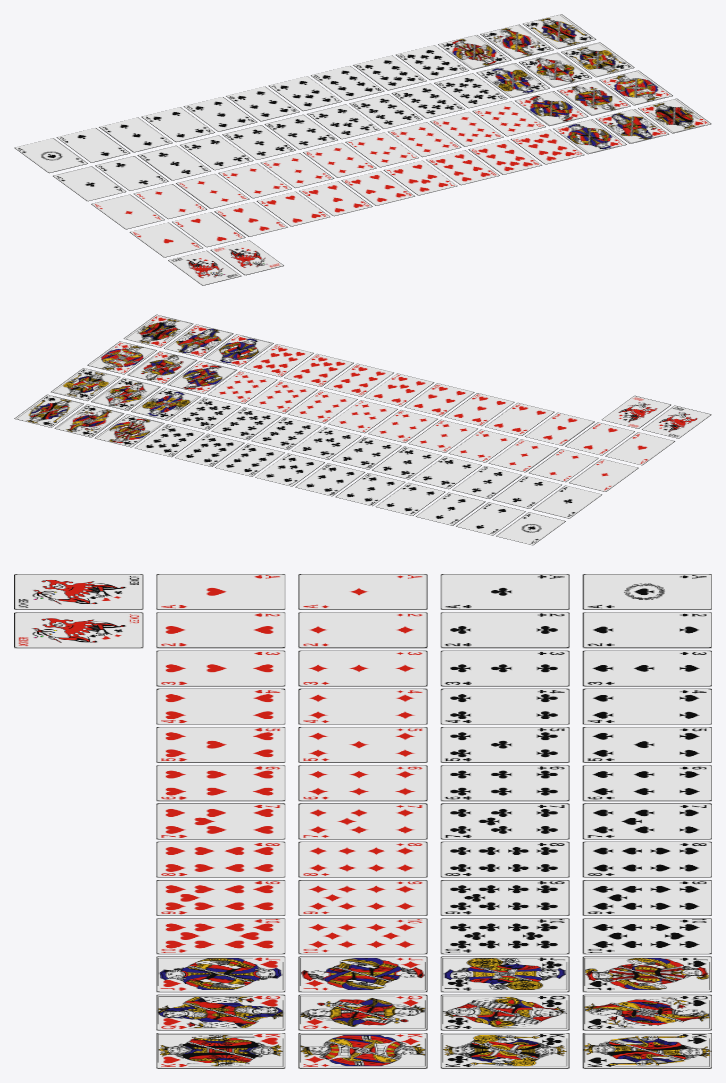
File: AllCards.glb
3 views of the same model, one above another, from view 1: azimuth 30°, elevation 25°; view 2: azimuth 150°, elevation 25°; view 3: azimuth 270°, elevation 25° (orthographic). The views are drawn at different scales.
Visible parts, largest first — view 1: Club01, Club06, Club09, ClubQueen, ClubKing, Diamond01, Diamond07, Heart10, Spade03, Spade04, SpadeKing, Club03 (+42 smaller); view 2: Club08, Club01, Diamond04, Spade04, Spade05, Club02, Club03, Club07, Diamond01, Diamond02, Diamond03, Diamond06 (+42 smaller); view 3: Club07, Diamond02, Diamond03, Diamond04, Diamond06, Diamond07, Diamond08, Diamond10, DiamondJack, DiamondQueen, Heart07, Spade07 (+42 smaller).
Boxes of the visible parts, x1,y1,x2,y2 form: Club01: (52, 166, 126, 201); Club06: (264, 114, 338, 149); Club09: (391, 83, 465, 118); ClubQueen: (518, 52, 592, 87); ClubKing: (561, 42, 634, 77); Diamond01: (91, 194, 164, 229); Diamond07: (345, 132, 418, 167); Heart10: (510, 129, 584, 164); Spade03: (99, 117, 172, 152); Spade04: (141, 107, 215, 142); SpadeKing: (522, 14, 596, 49); Club03: (137, 145, 211, 180); Club08: (251, 416, 321, 450); Club01: (532, 485, 602, 518); Diamond04: (448, 429, 518, 462); Spade04: (375, 482, 445, 515); Spade05: (335, 473, 405, 506); Club02: (492, 475, 562, 508); Club03: (452, 466, 521, 498); Club07: (291, 426, 361, 459); Diamond01: (569, 458, 638, 491); Diamond02: (528, 449, 598, 482); Diamond03: (488, 439, 558, 472); Diamond06: (368, 409, 437, 442); Club07: (440, 803, 569, 839); Diamond02: (298, 612, 427, 648); Diamond03: (298, 650, 427, 686); Diamond04: (298, 688, 427, 724); Diamond06: (298, 765, 427, 801); Diamond07: (298, 803, 427, 839); Diamond08: (298, 841, 427, 877); Diamond10: (298, 918, 427, 954); DiamondJack: (298, 956, 427, 992); DiamondQueen: (298, 994, 427, 1030); Heart07: (156, 803, 285, 839); Spade07: (582, 803, 711, 839).
Size of the model in its own units: 0.9054 by 0.000257 by 0.54.
1 material, 1 textured.
